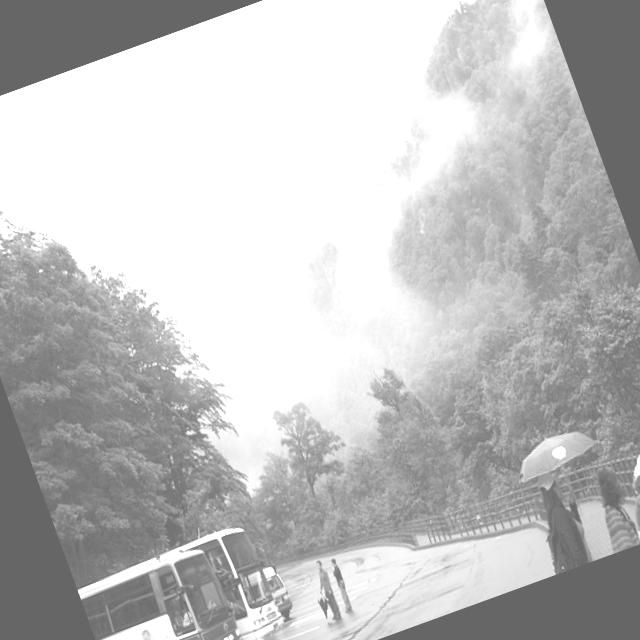Vehicle: (72, 524, 266, 640), (189, 519, 288, 640), (246, 563, 297, 626)
